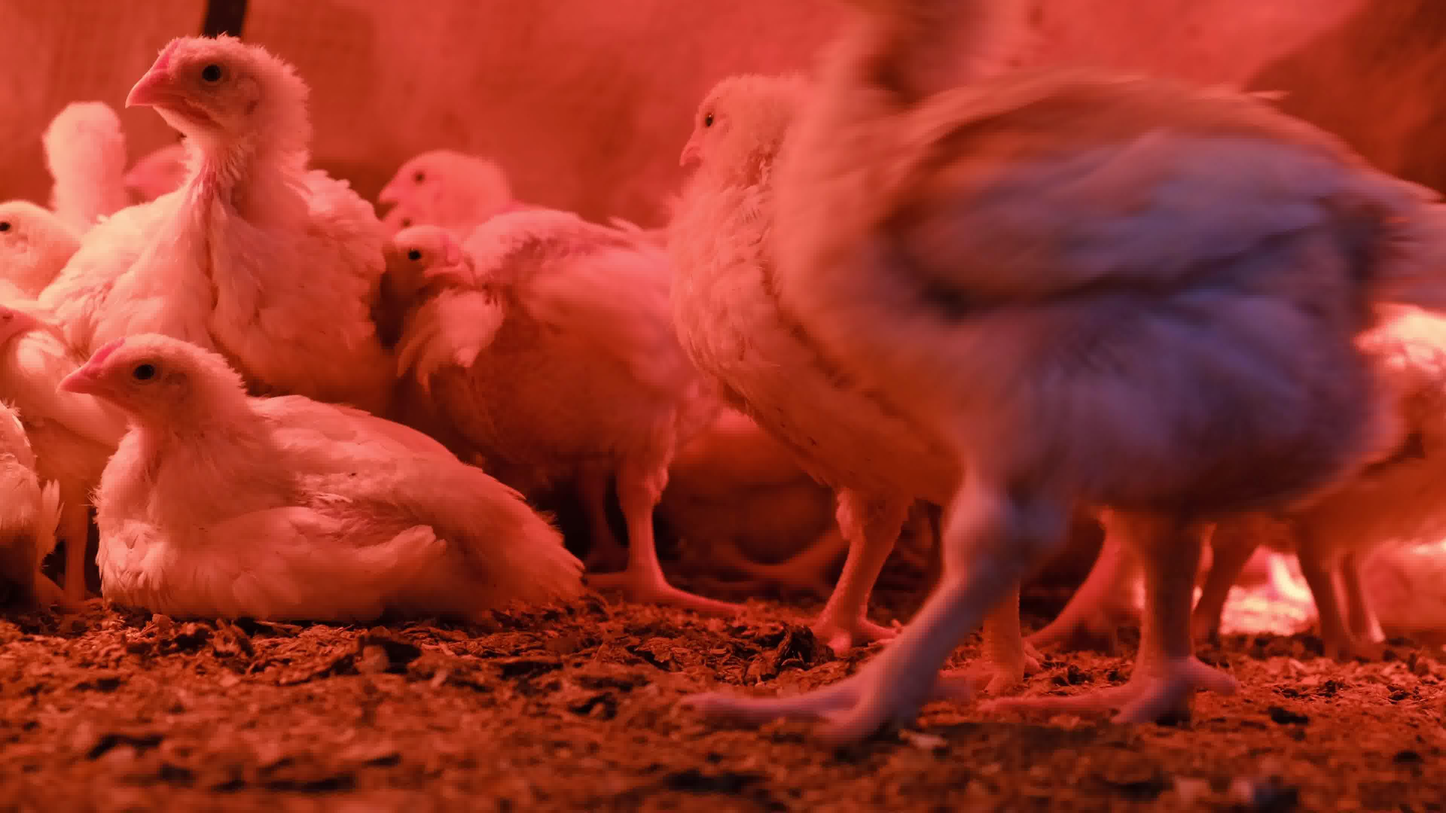AbNormal: (59, 333, 582, 619), (0, 298, 51, 601)
Normal: (767, 0, 1446, 745), (674, 74, 1069, 684), (366, 152, 761, 616), (45, 36, 398, 468), (1253, 292, 1444, 666), (0, 196, 146, 604), (372, 224, 486, 354), (42, 103, 137, 211)
